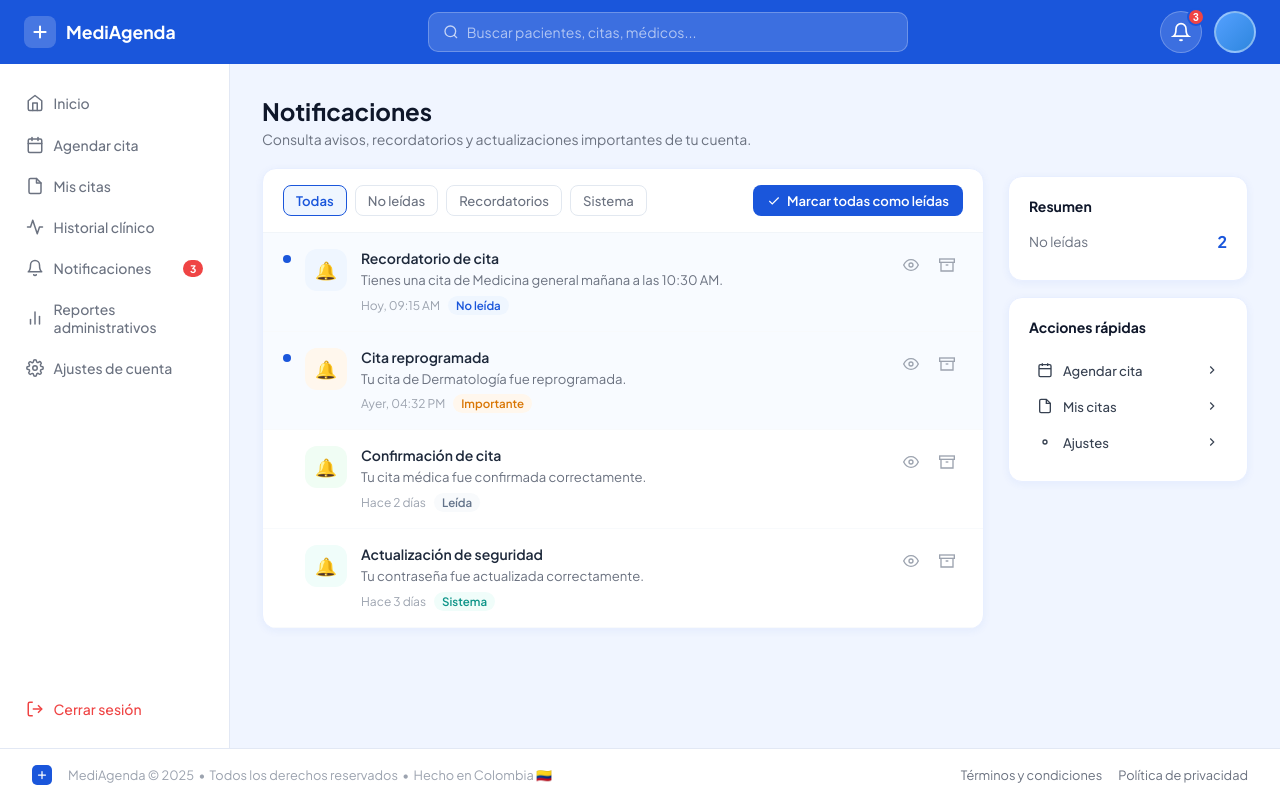
Test: Componente Notificaciones - MediAgenda › Acciones › debe marcar como leída al hacer clic en el ojo
Click the button titled "Marcar como" in the row of "Recordatorio de cita": (911, 265) [895,249,927,281]
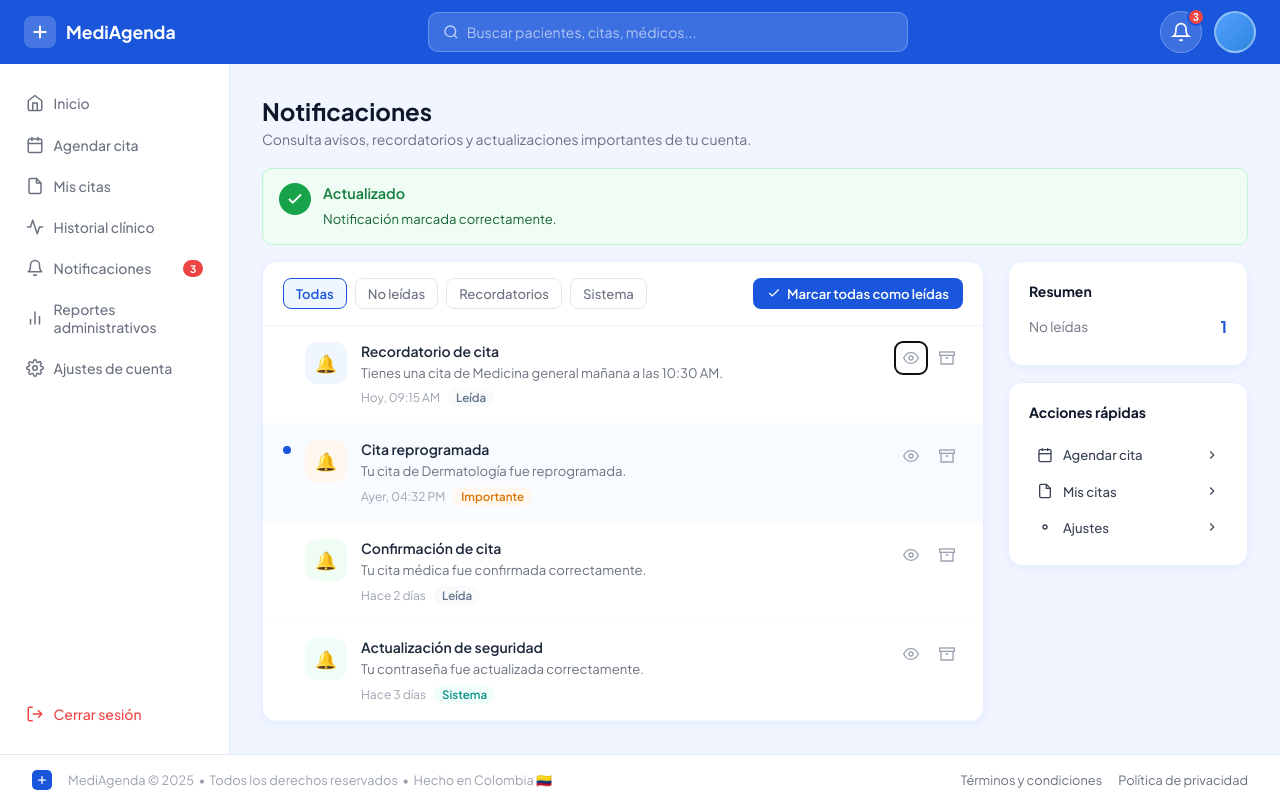
Check: the text "Actualizado" is shown, box [323,184,405,202]
